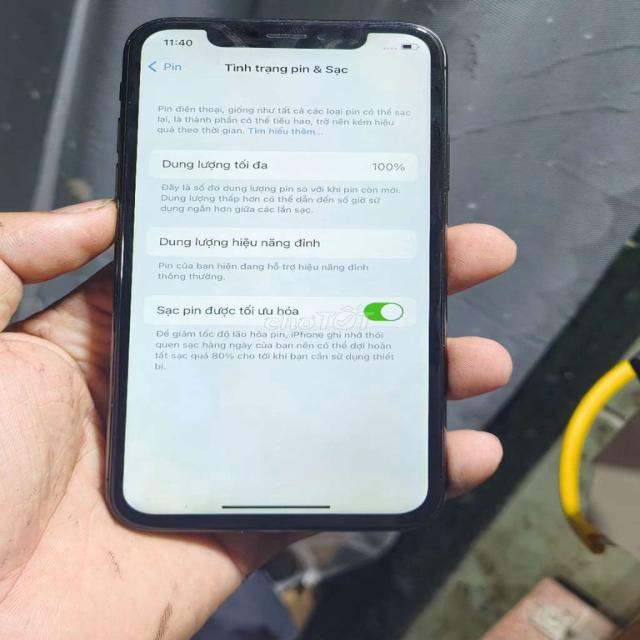gen_x_xs: (97, 13, 462, 534)
scratch: (432, 71, 462, 266), (249, 10, 428, 31), (146, 8, 204, 32), (116, 28, 152, 52), (122, 92, 140, 110)
